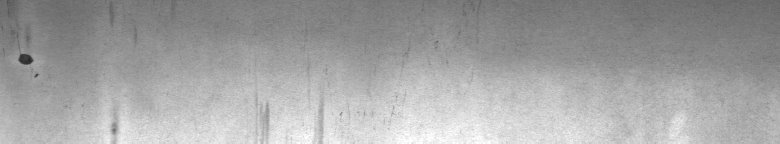fi: (11, 30, 41, 79)
